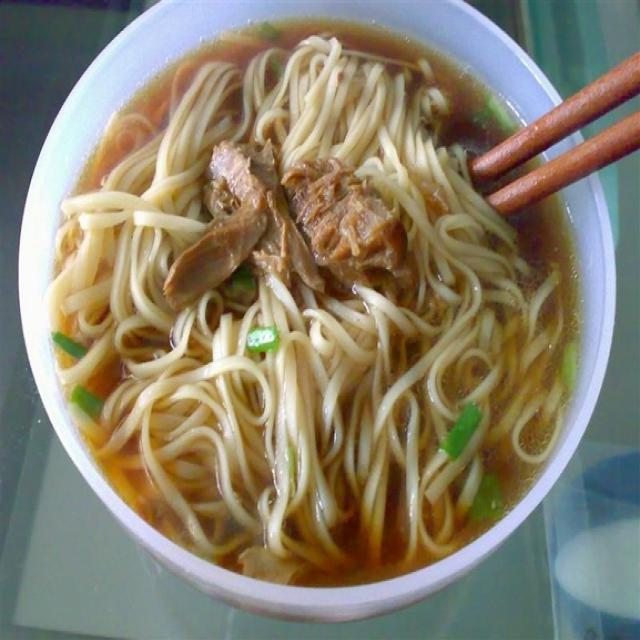面条主食: (28, 11, 609, 604)
